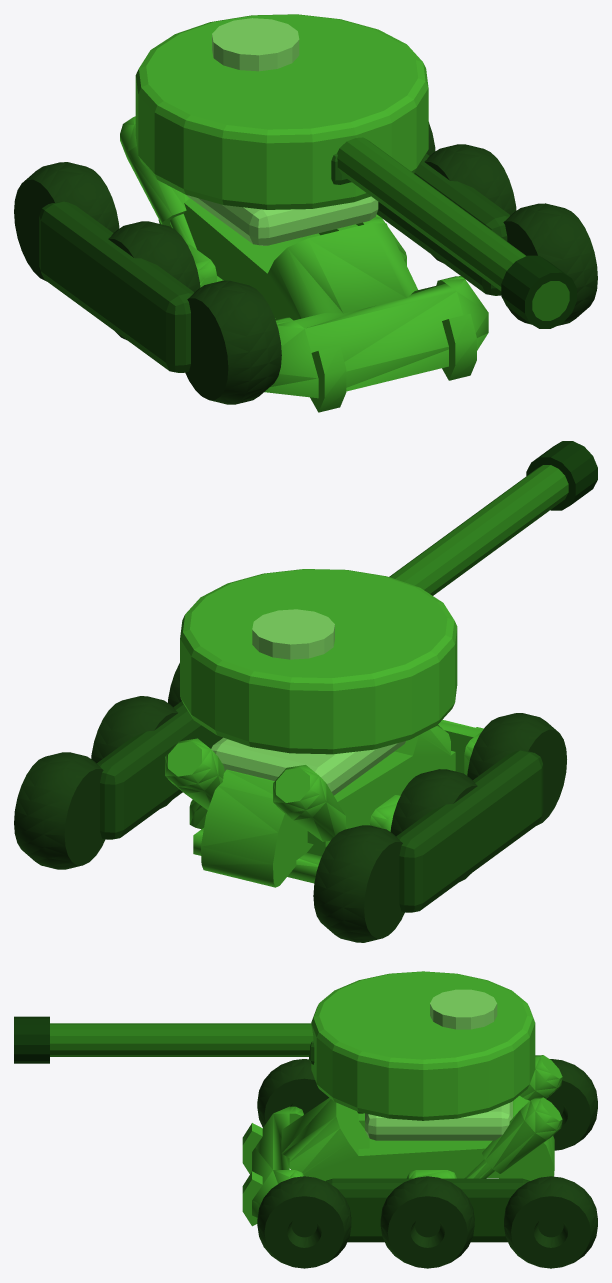
Rendered from toy_tank.glb.
3 views of the same model, one above another, from view 1: azimuth 30°, elevation 25°; view 2: azimuth 150°, elevation 25°; view 3: azimuth 270°, elevation 25° (orthographic). The views are drawn at different scales.
Visible parts, largest first — view 1: Turret, Hull, TrackSkirtR, Barrel, WheelR1, WheelL1, WheelR3, HullDeck, TrackSkirtL, TurretHatch, WheelL2, WheelR2 (+1 smaller); view 2: Turret, Hull, TrackSkirtR, WheelR3, WheelL3, Barrel, TrackSkirtL, WheelR1, HullDeck, TurretHatch, WheelL2, WheelR2 (+1 smaller); view 3: Turret, Hull, Barrel, WheelL1, WheelL2, WheelL3, TrackSkirtL, HullDeck, WheelR3, WheelR1, TurretHatch, MuzzleBrake.
Part boxes in pixels (x1,y1,x2,y2): Turret: [135, 14, 428, 209]; Hull: [120, 116, 488, 412]; TrackSkirtR: [39, 201, 194, 372]; Barrel: [337, 137, 569, 320]; WheelR1: [185, 280, 281, 404]; WheelL1: [503, 203, 597, 325]; WheelR3: [14, 162, 119, 281]; HullDeck: [186, 195, 378, 245]; TrackSkirtL: [377, 154, 510, 295]; TurretHatch: [212, 18, 299, 71]; WheelL2: [424, 144, 516, 263]; WheelR2: [108, 221, 200, 339]; Turret: [180, 569, 457, 754]; Hull: [165, 719, 483, 887]; TrackSkirtR: [396, 750, 543, 912]; WheelR3: [313, 825, 404, 942]; WheelL3: [14, 752, 105, 869]; Barrel: [389, 465, 568, 595]; TrackSkirtL: [97, 701, 222, 839]; WheelR1: [467, 713, 566, 825]; HullDeck: [211, 737, 405, 795]; TurretHatch: [252, 609, 334, 659]; WheelL2: [91, 696, 177, 808]; WheelR2: [390, 769, 477, 881]; Turret: [311, 971, 535, 1120]; Hull: [242, 1055, 562, 1226]; Barrel: [50, 1023, 313, 1056]; WheelL1: [257, 1176, 351, 1268]; WheelL2: [380, 1176, 474, 1268]; WheelL3: [504, 1176, 597, 1268]; TrackSkirtL: [326, 1178, 529, 1242]; HullDeck: [365, 1101, 512, 1140]; WheelR3: [546, 1059, 597, 1150]; WheelR1: [257, 1059, 328, 1127]; TurretHatch: [430, 989, 497, 1029]; MuzzleBrake: [14, 1016, 49, 1063].
Size of the model in its own units: 1.98 by 1.25 by 3.39.
